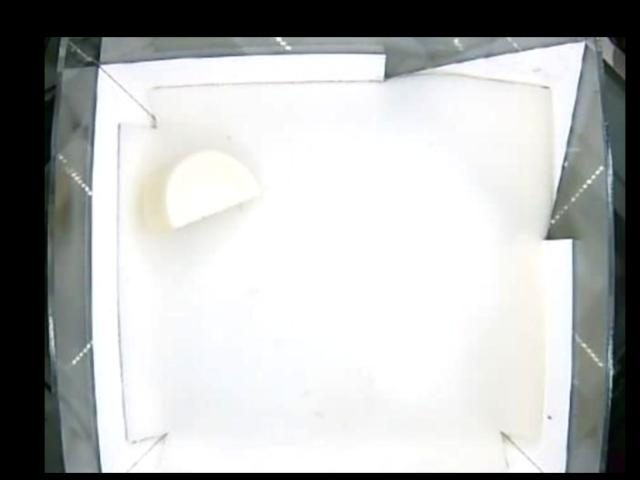Mooli: (140, 149, 262, 231)
